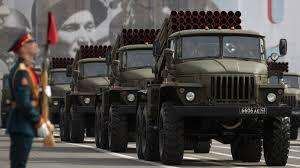MIL_SAM_TEL: (140, 8, 290, 164), (93, 27, 156, 148), (67, 43, 113, 139), (266, 59, 300, 140), (48, 56, 78, 119)
